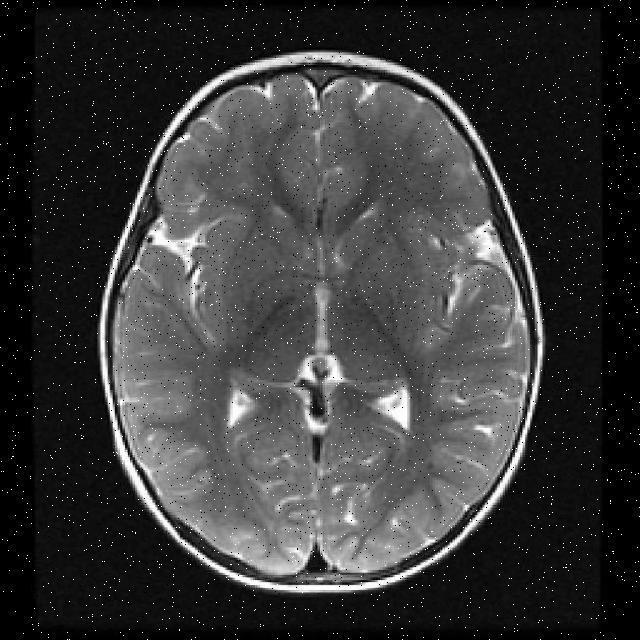No_Tumor: (100, 51, 543, 592)
